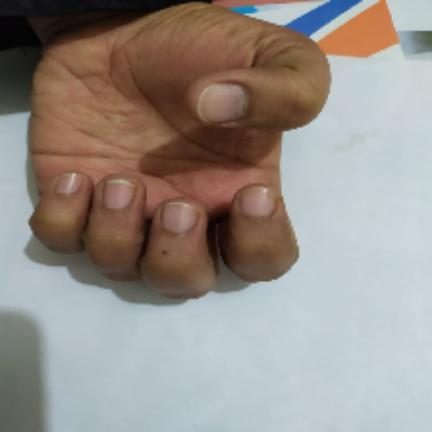Nail: (197, 83, 248, 123), (161, 202, 197, 234), (240, 186, 275, 216), (103, 179, 135, 209), (56, 172, 82, 194)
